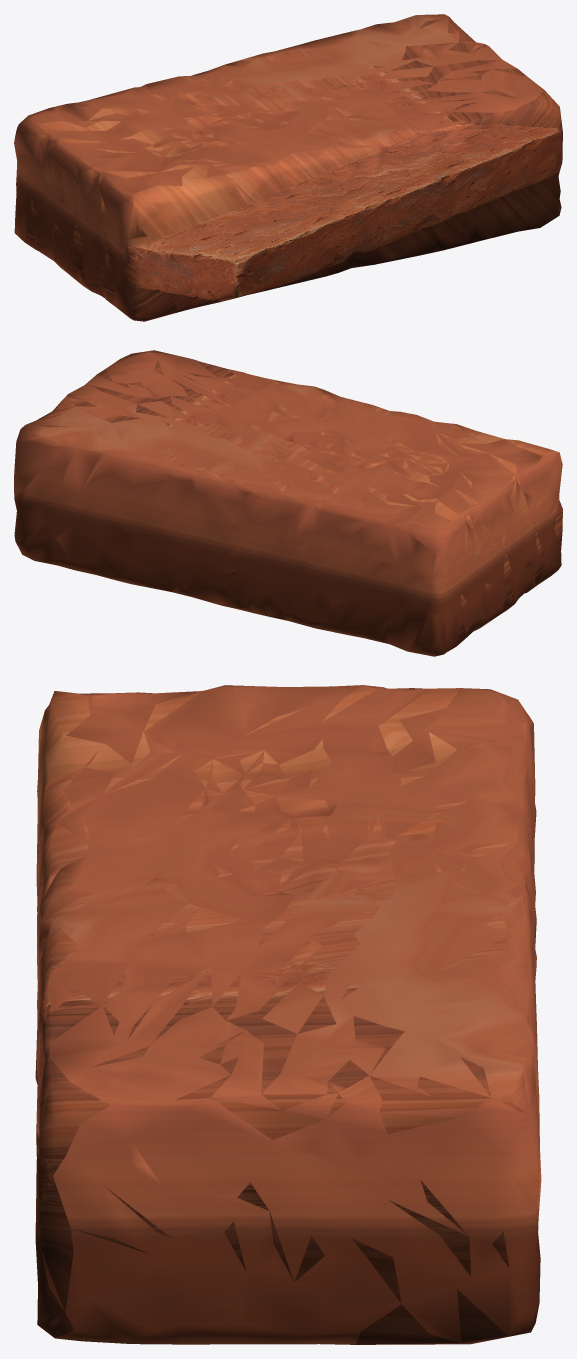
Rendered from asset_brick.glb.
3 renders of one model, top to bottom at view 1: azimuth 30°, elevation 25°; view 2: azimuth 150°, elevation 25°; view 3: azimuth 270°, elevation 25°, orthographic. The views are drawn at different scales.
Parts seen in each view (by area): view 1: geometry_0; view 2: geometry_0; view 3: geometry_0.
Boxes of the visible parts, x1=… form: geometry_0: x1=14, y1=14, x2=562, y2=321; geometry_0: x1=14, y1=350, x2=562, y2=656; geometry_0: x1=35, y1=685, x2=541, y2=1344.
Size of the model in its own units: 0.8735 by 0.25 by 0.4427.
Materials: 1 (1 with a texture image).
